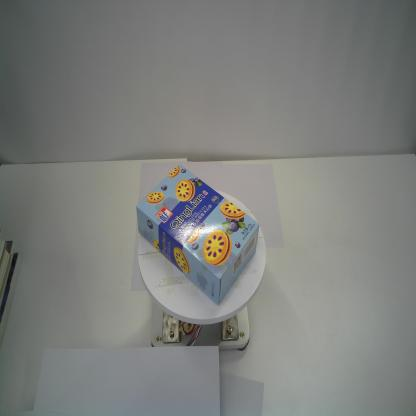Dessert: (135, 163, 260, 305)
